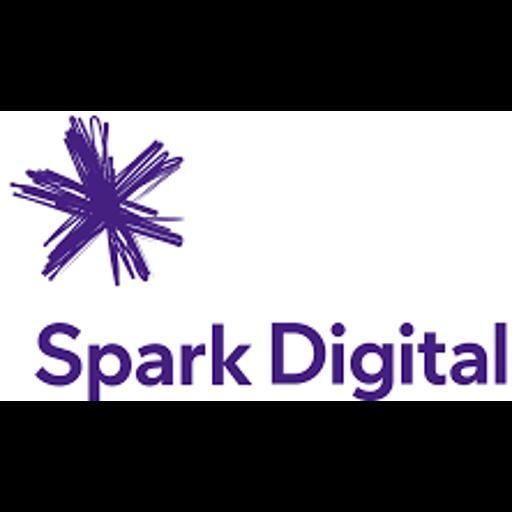Spark New Zealand: (0, 111, 512, 401)
